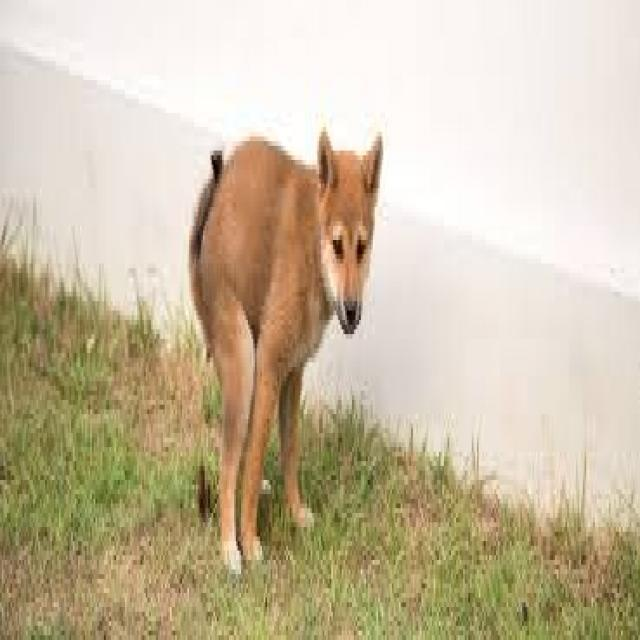Dogpoop: (188, 123, 387, 571)
